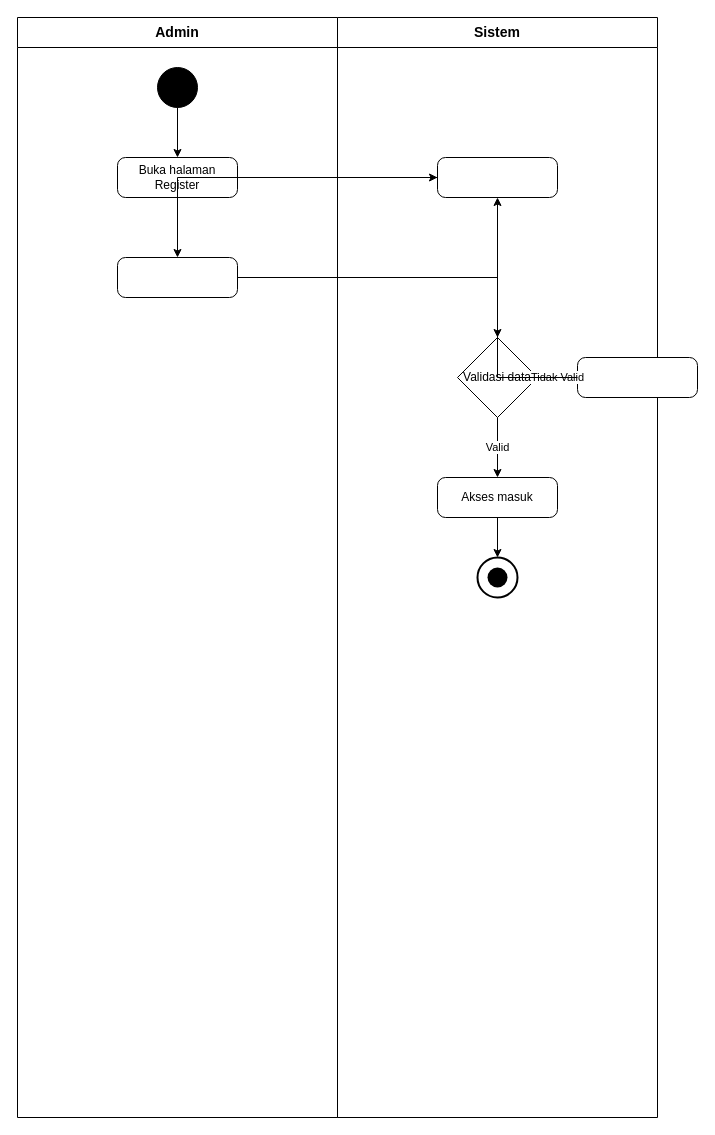
Some shapes in this 715 by 1135 pixel diagram are drawn without their labels. The box of each missing label's shape, as (x1, y1, x2, y2) in pixels:
Isi form dan submit: (116, 256, 238, 298)
Tampil form Register: (436, 156, 558, 198)
Tampil pesan error: (576, 356, 698, 398)
